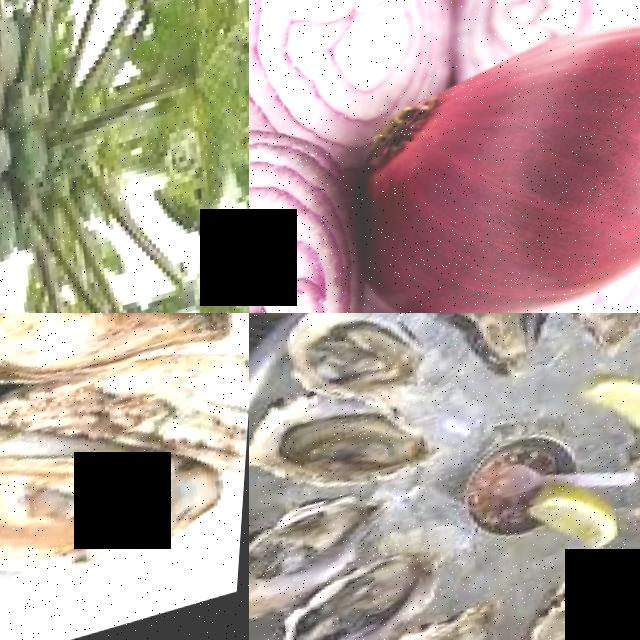onion: (332, 0, 640, 313), (249, 104, 415, 313), (249, 0, 473, 131)
oysters: (0, 388, 237, 640), (250, 375, 443, 514), (0, 313, 160, 449), (249, 481, 410, 609), (259, 544, 454, 640), (284, 313, 441, 414), (424, 313, 583, 397), (482, 585, 640, 640), (323, 597, 525, 640), (552, 313, 640, 368)
